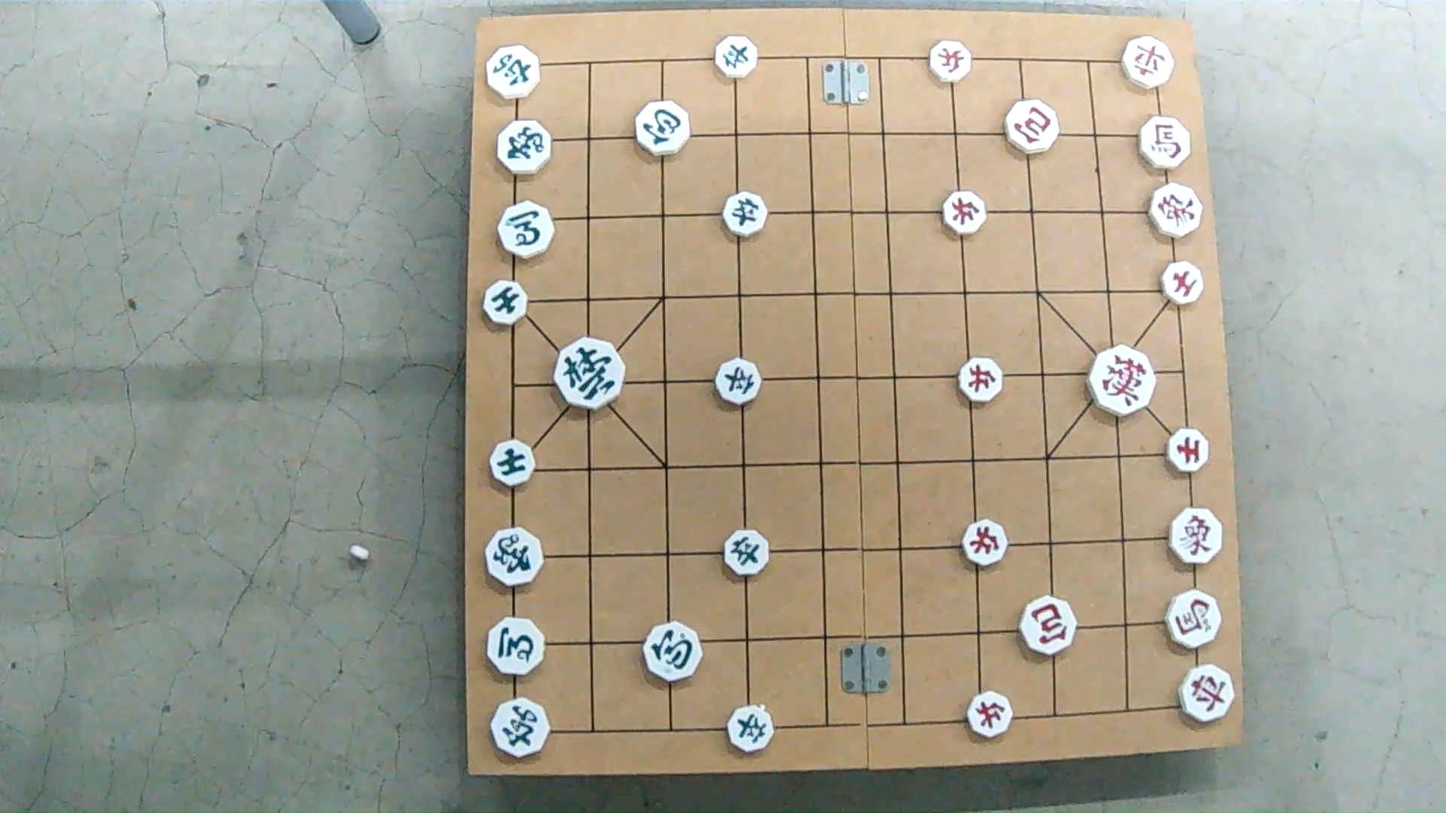cha_green: (490, 698, 554, 756), (487, 43, 542, 99)
cha_red: (1179, 664, 1234, 723), (1121, 38, 1174, 84)
jol_green: (721, 531, 768, 575), (716, 359, 763, 403), (729, 705, 772, 751), (722, 195, 767, 237), (712, 36, 756, 78)
jol_red: (960, 521, 1007, 565), (966, 693, 1011, 737), (956, 358, 1002, 401), (941, 190, 988, 232), (930, 41, 974, 81)
ma_green: (487, 617, 545, 676), (496, 203, 553, 257)
ma_red: (1163, 588, 1222, 648), (1136, 118, 1190, 169)
po_green: (646, 623, 704, 680), (634, 103, 689, 155)
po_red: (1020, 598, 1077, 654), (1005, 102, 1061, 154)
sa_green: (488, 440, 535, 485), (484, 279, 528, 327)
sa_red: (1159, 259, 1204, 307), (1167, 429, 1210, 472)
sang_green: (484, 528, 547, 583), (494, 121, 554, 175)
sang_red: (1166, 506, 1225, 563), (1145, 182, 1205, 233)
wang_green: (555, 338, 628, 411)
wang_red: (1088, 349, 1158, 414)
